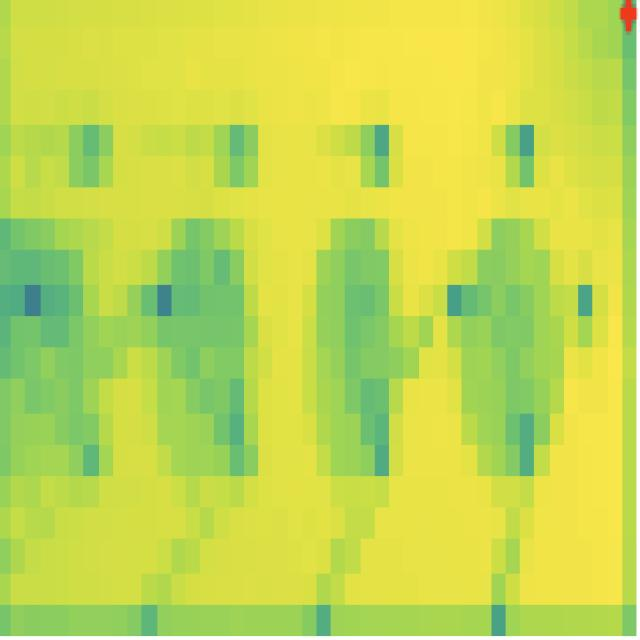Concrete: (448, 208, 567, 517)
Glass: (298, 195, 414, 508)
Metal: (5, 205, 135, 498)
Wood: (143, 204, 264, 492)
